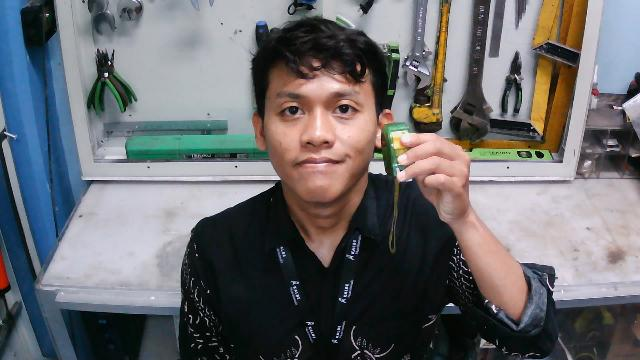meteran: (378, 117, 421, 254)
